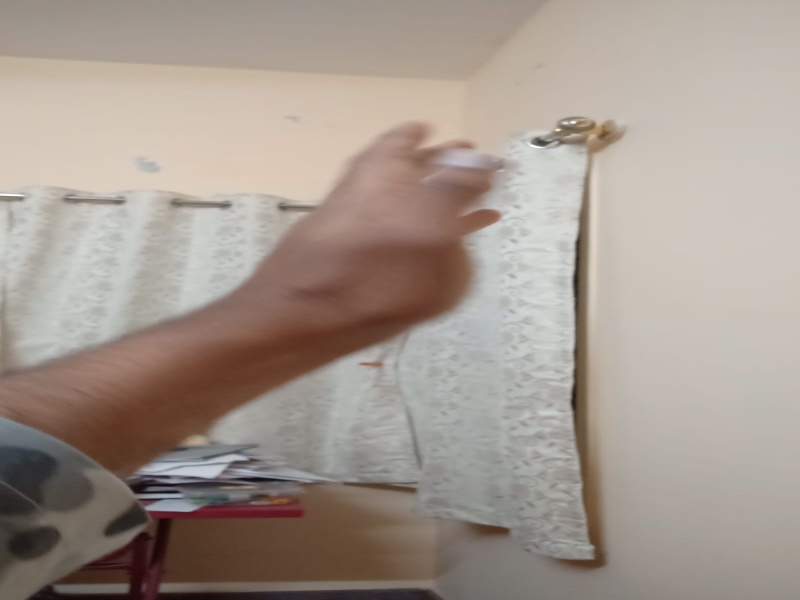Hand: (228, 119, 518, 364)
